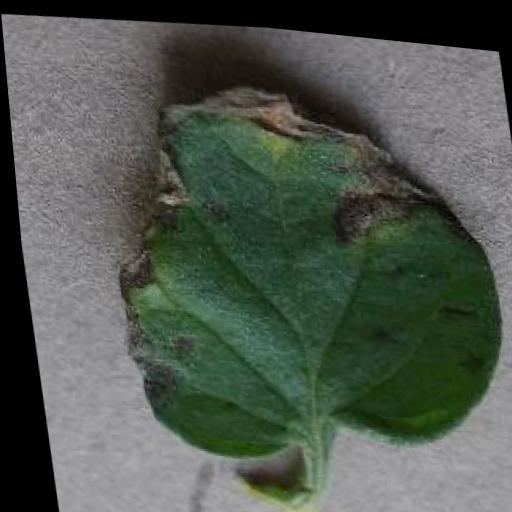Early Blight: (86, 56, 512, 480)
